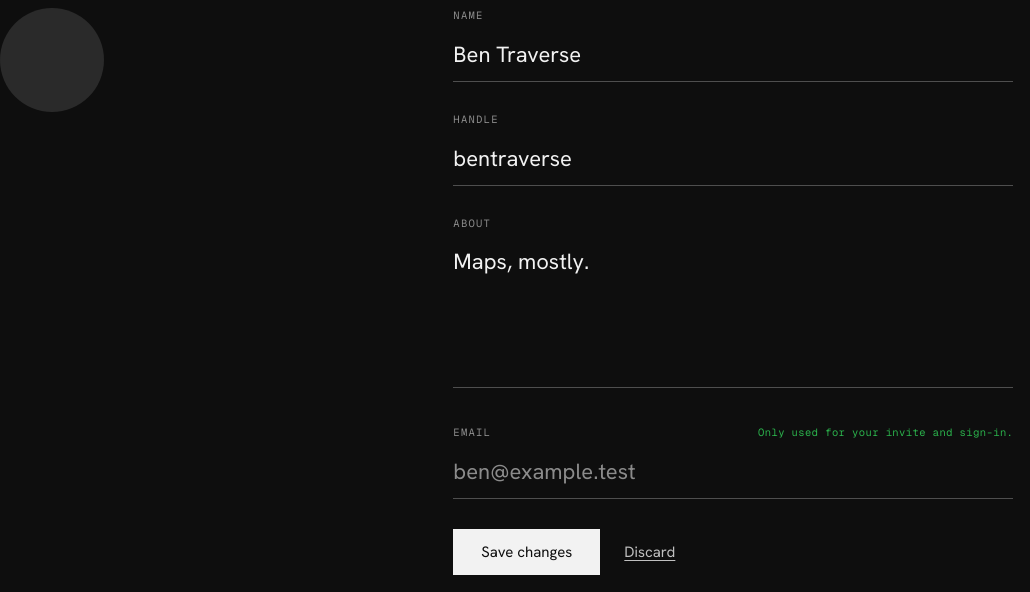
Test case: ProfileEditScreen › Discard puts the loaded values back and navigates nowhere
The width and height of the screenshot is (1030, 592).
Replace the text in the field labelled "Name" with "Someone" at (733, 55), box [453,28,1013,82]
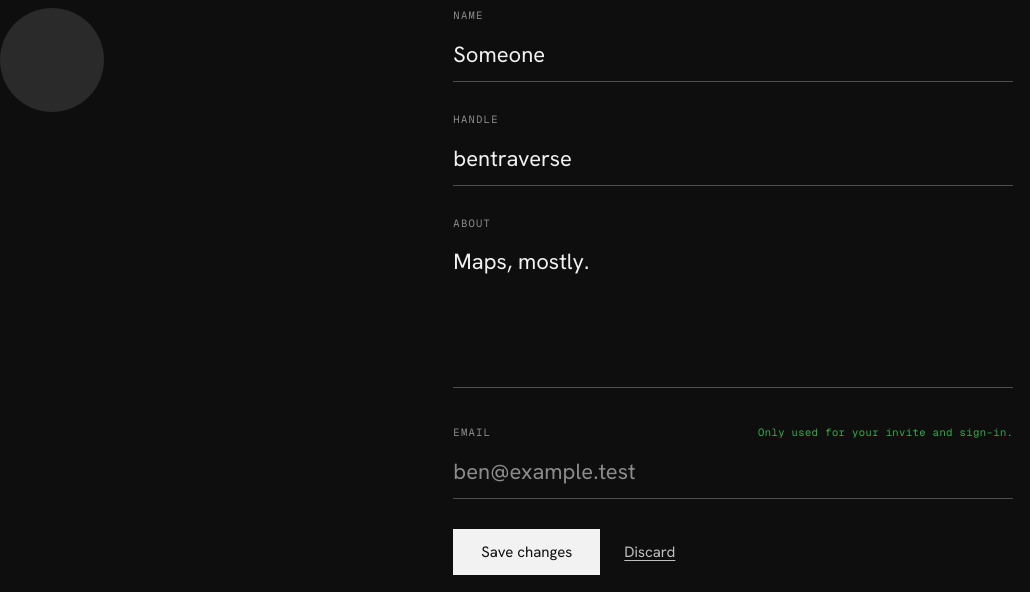
Replace the text in the field labelled "Handle" with "other" at (733, 158), box [453,132,1013,186]
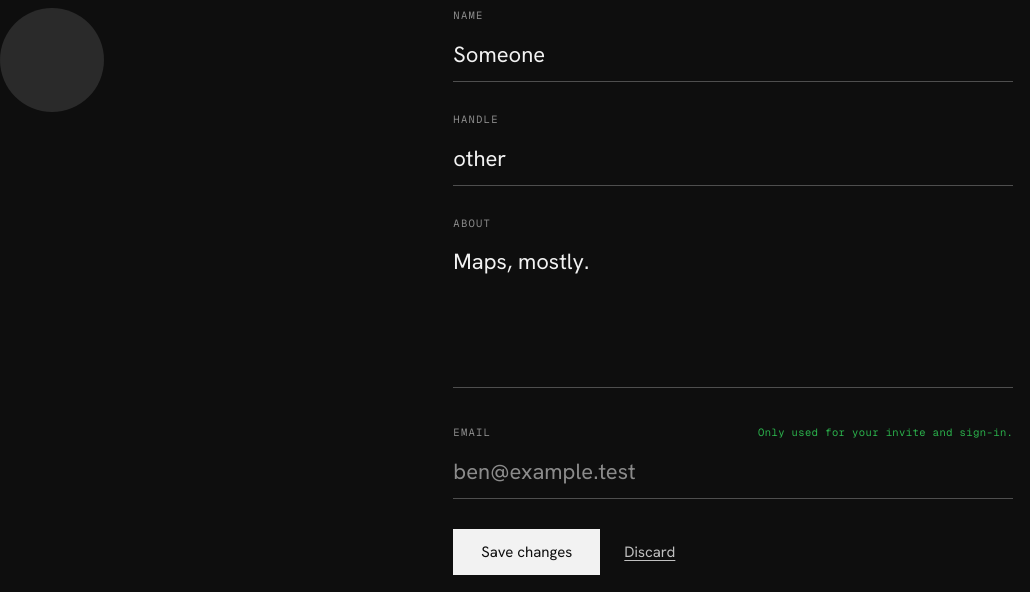
Clear the text box labelled "About" at (733, 312), box [453,235,1013,388]
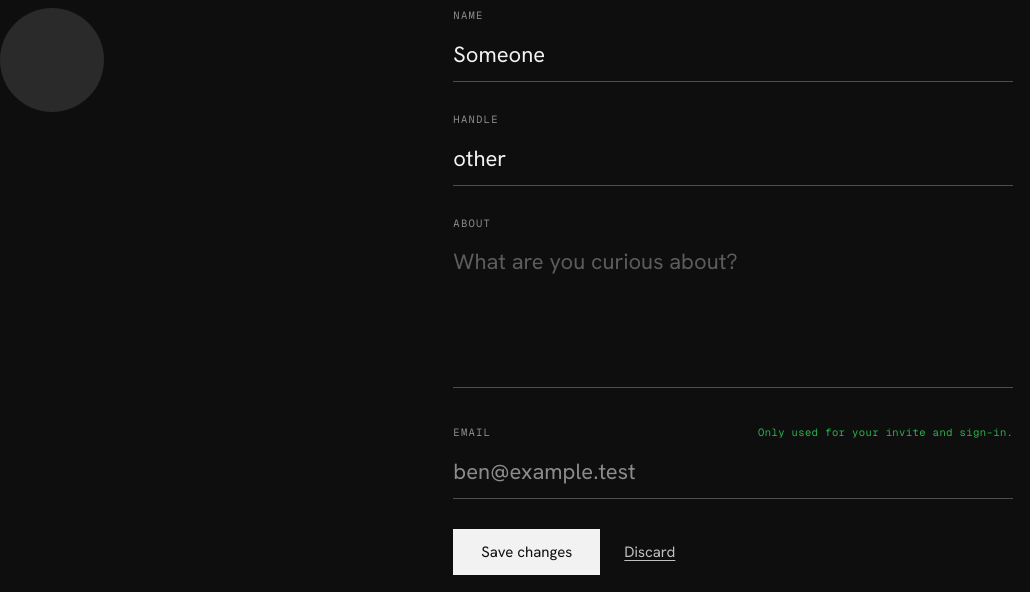
Click the button "Discard".
click(650, 552)  # box [624,541,675,563]
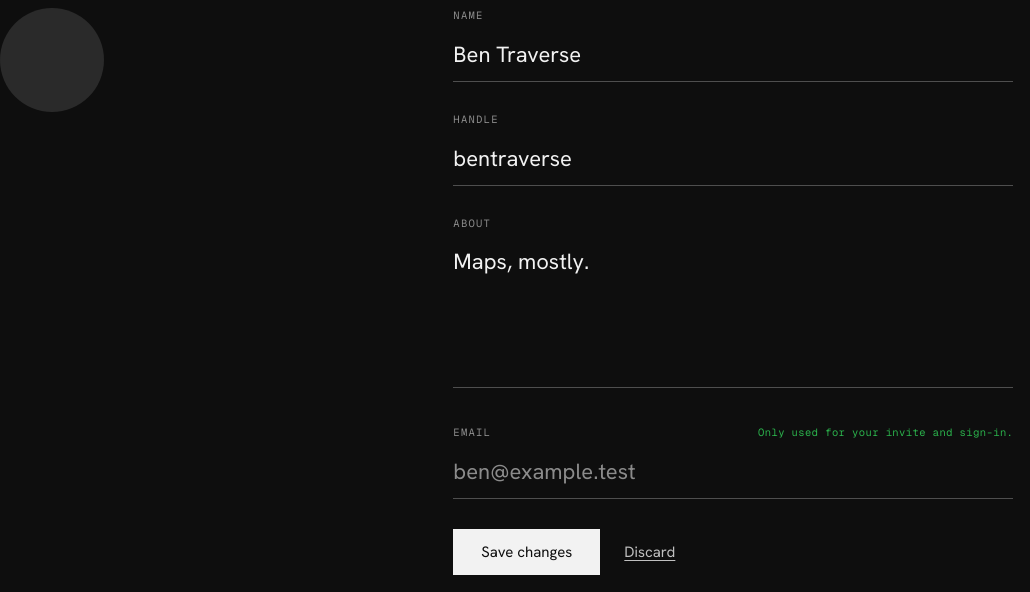
Now the field labelled "Name" holds "Ben Traverse", box [453,28,1013,82]
Now the field labelled "Handle" holds "bentraverse", box [453,132,1013,186]
Now the text box labelled "About" holds "Maps, mostly.", box [453,235,1013,388]
